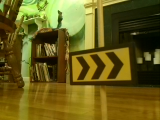right: (70, 49, 134, 83)
